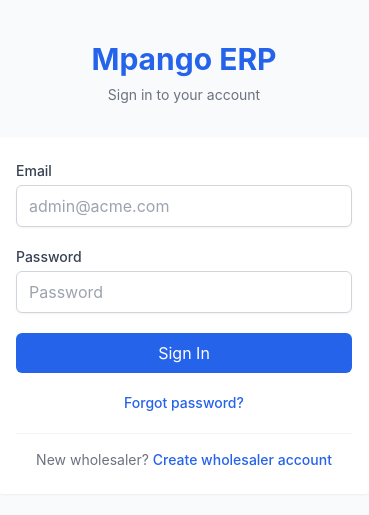
it: DC-12R1-MVP-L1-J1-R1-R1 signup contract truth › F-B: zero-tenant impossibility fails closed (defensive guard only) › a defensively-impossible 200+[] identity response stays on /login, shows neutral error, persists nothing
Type "owner@acme.com" into the field labelled "Email". click: (184, 206)
box: x1=16 y1=184 x2=352 y2=226
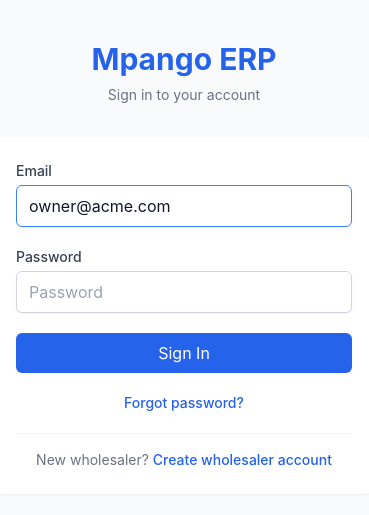
Type "WhateverPass1" into the password field labelled "Password". click: (184, 292)
box: x1=16 y1=270 x2=352 y2=312
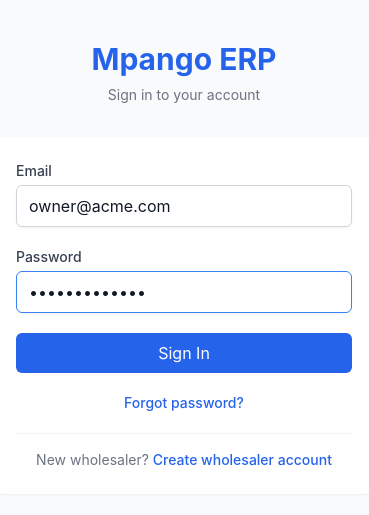
Click the button "Sign In". click: click(184, 352)
box: x1=16 y1=332 x2=352 y2=372
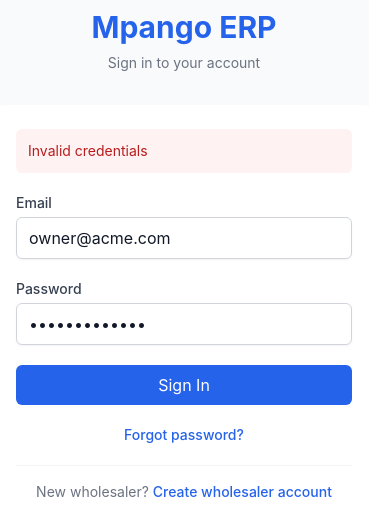
Check: the text "Invalid credentials" is shown, box x1=16 y1=128 x2=352 y2=172
